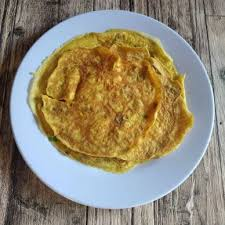Telur dadar: (29, 29, 194, 173)
